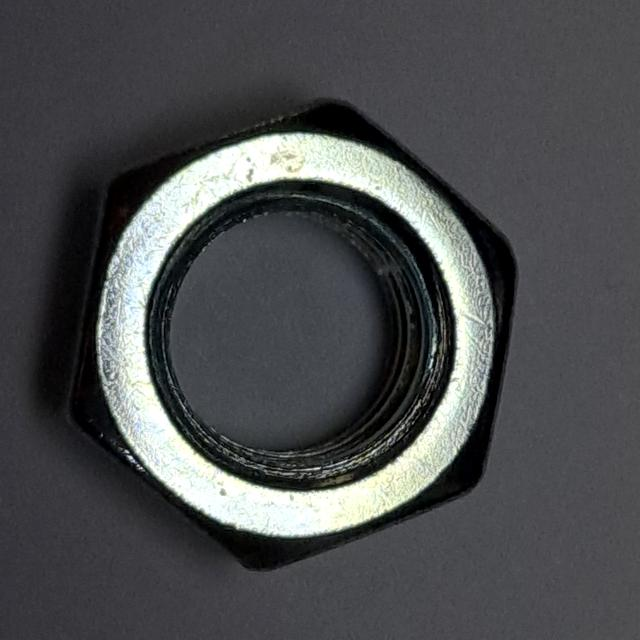Excellent: (40, 83, 528, 589)
